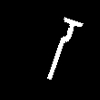half_double_crochet: (47, 18, 82, 78)
